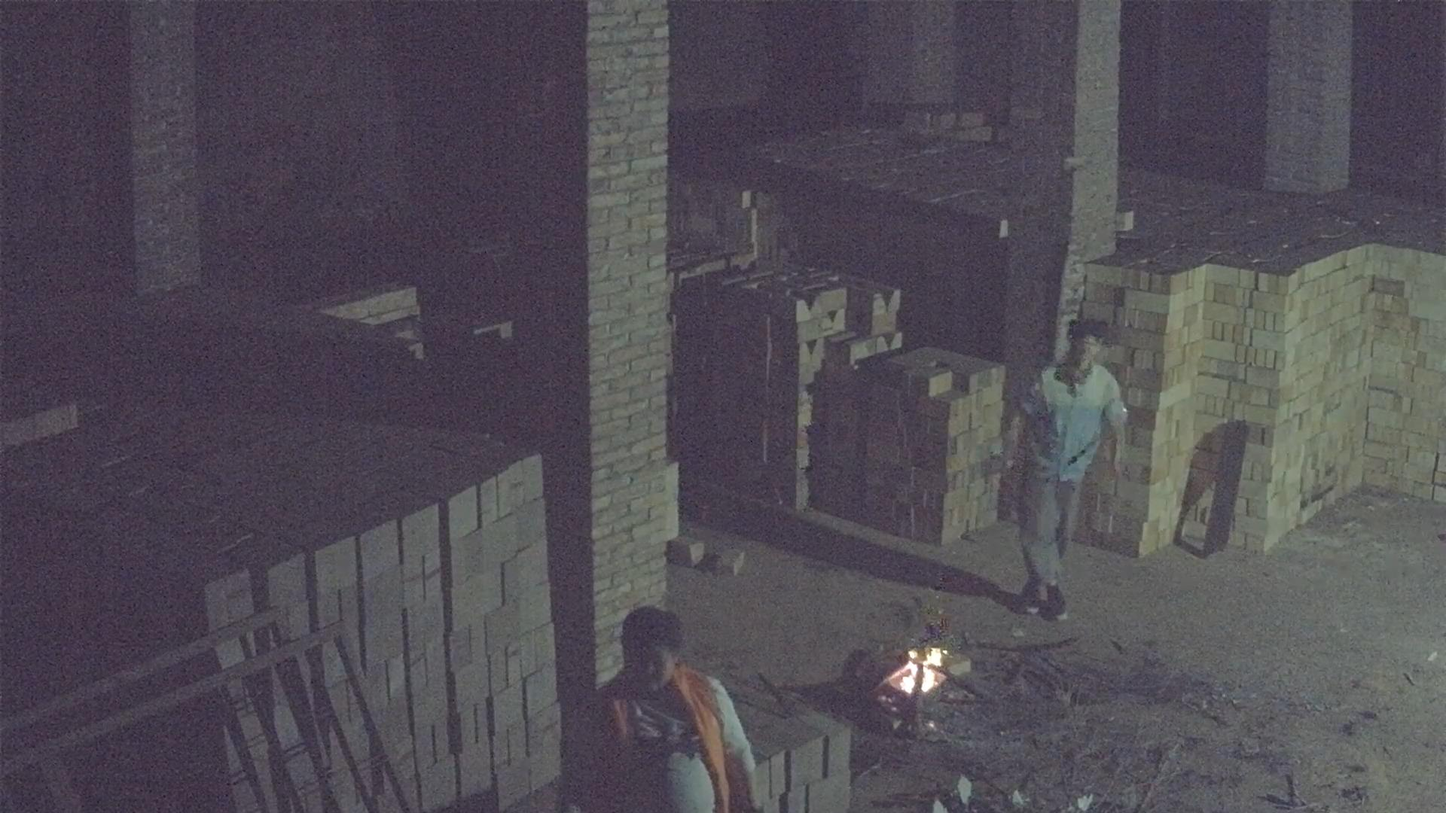fire: (889, 647, 946, 693)
